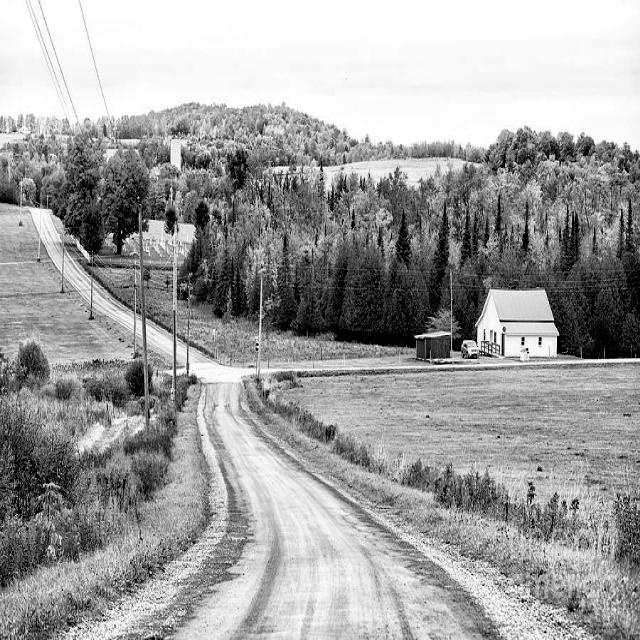cleat: (21, 196, 596, 640)
